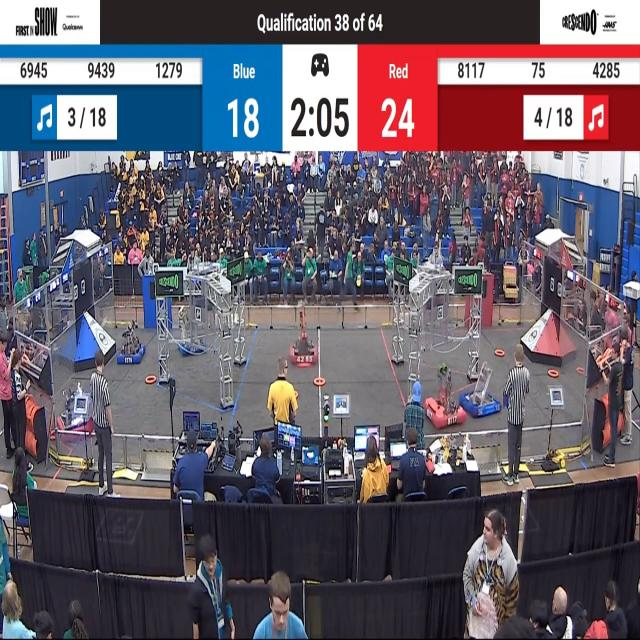Robot: (458, 348, 499, 422), (425, 357, 464, 431), (58, 378, 94, 442), (176, 299, 207, 358), (290, 311, 319, 373), (118, 320, 146, 371)
